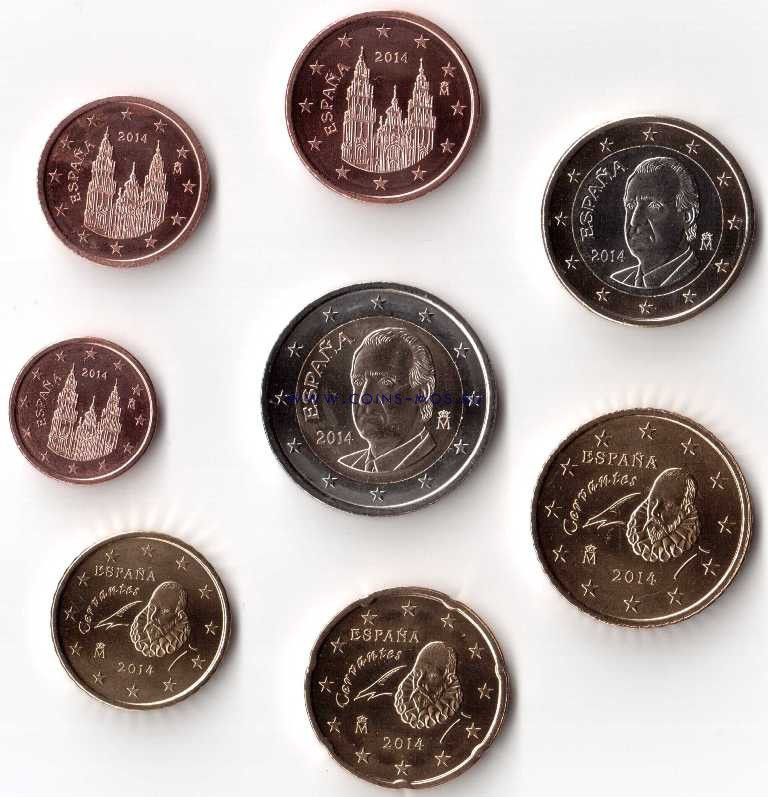coin: (258, 277, 507, 517), (523, 413, 757, 634), (536, 113, 764, 329), (304, 585, 516, 795), (284, 9, 492, 213), (49, 529, 230, 713), (39, 90, 213, 273), (8, 333, 160, 485)
